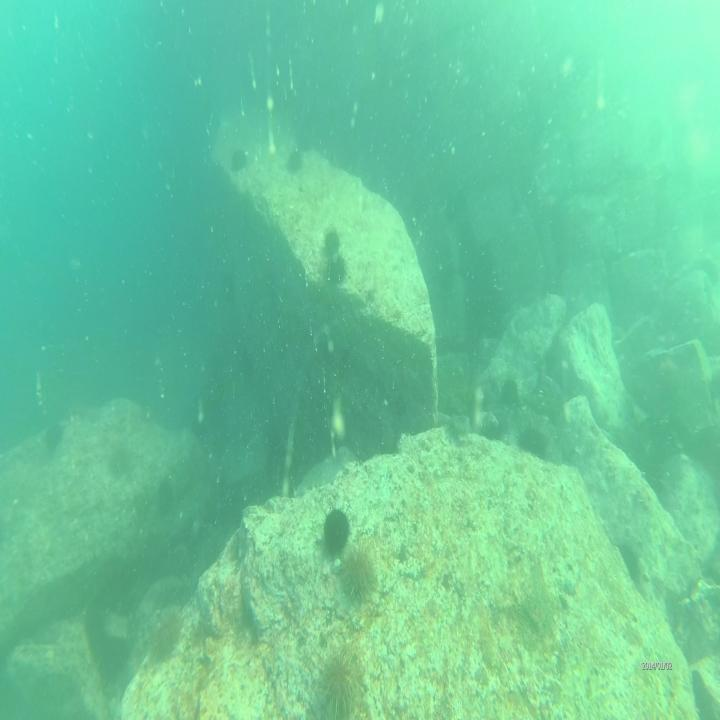echinus: (312, 646, 366, 716), (339, 548, 378, 605), (146, 620, 182, 663), (321, 505, 350, 551), (523, 418, 549, 460), (323, 224, 340, 257), (326, 255, 346, 283), (231, 145, 249, 174), (505, 375, 519, 405), (288, 150, 304, 176)
